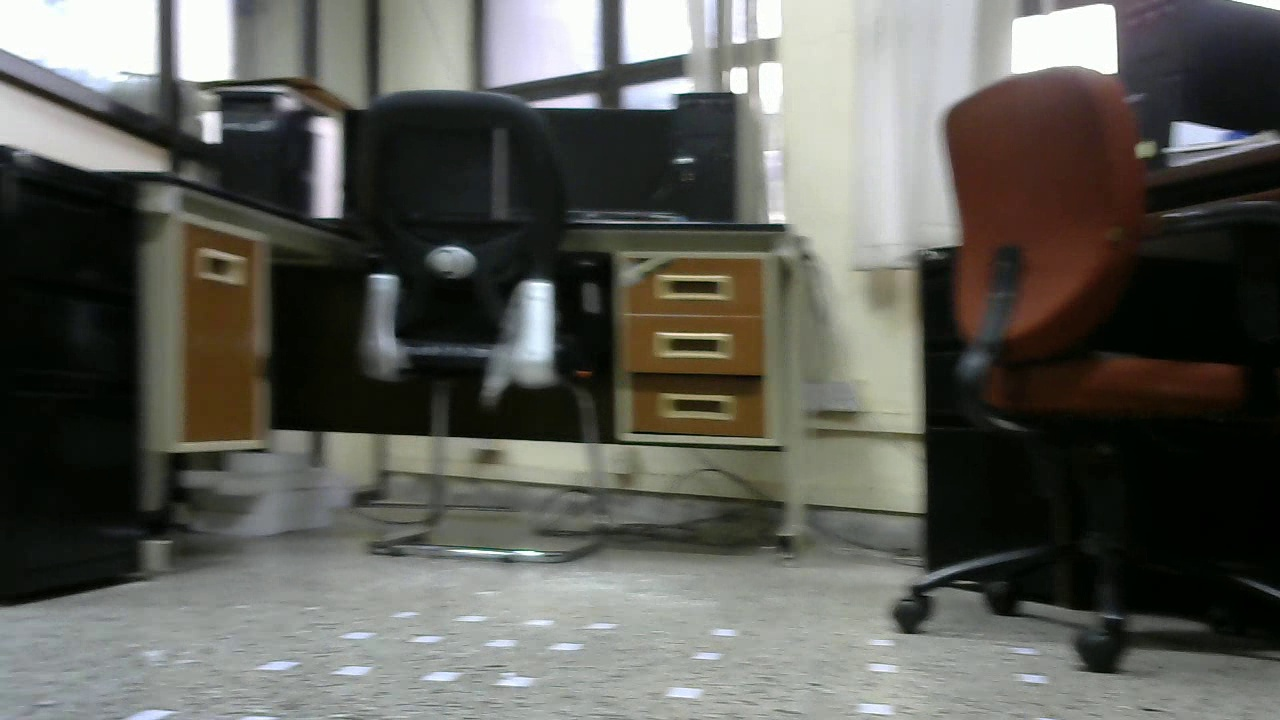chair: (887, 63, 1280, 679), (353, 80, 608, 560)
